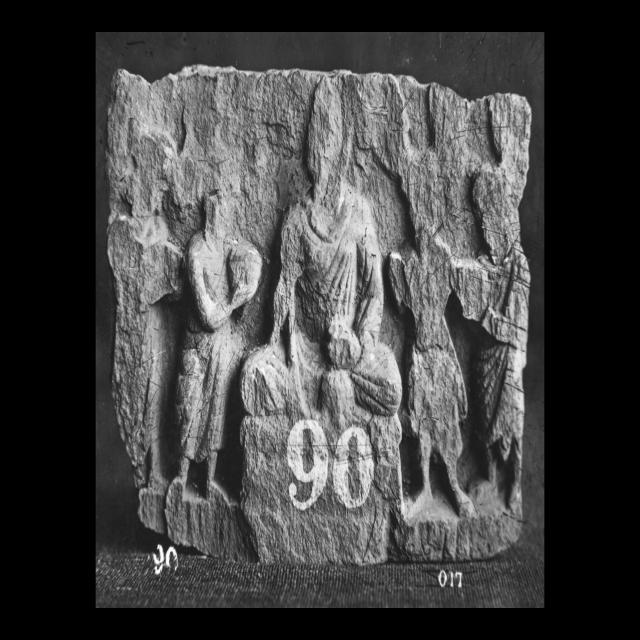buddha-sitting: (240, 76, 402, 564)
